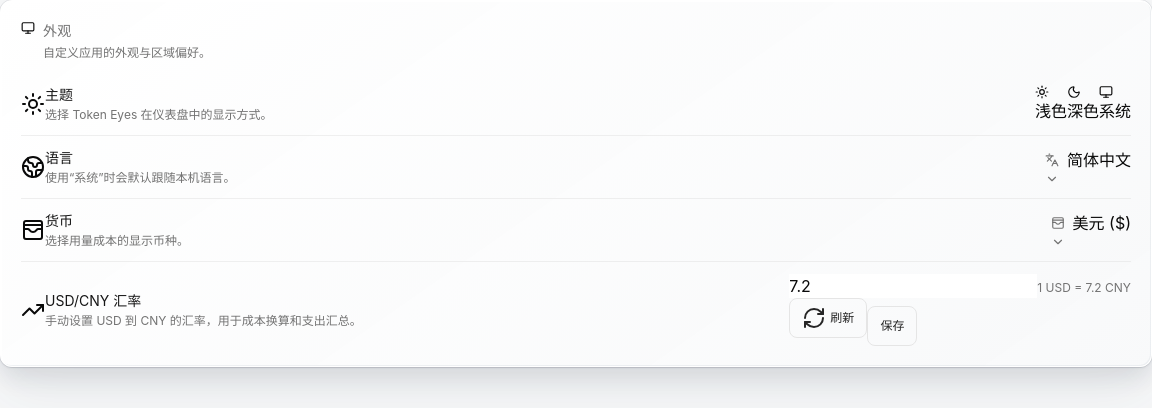
Test: AppearanceSection › refreshes the current USD/CNY rate and persists the fetched value
The image size is (1152, 408).
expect the number field showing "7.2" is shown: met, box [789,274,1037,298]
Click the button "刷新" at (828, 318), box [789,298,867,338]
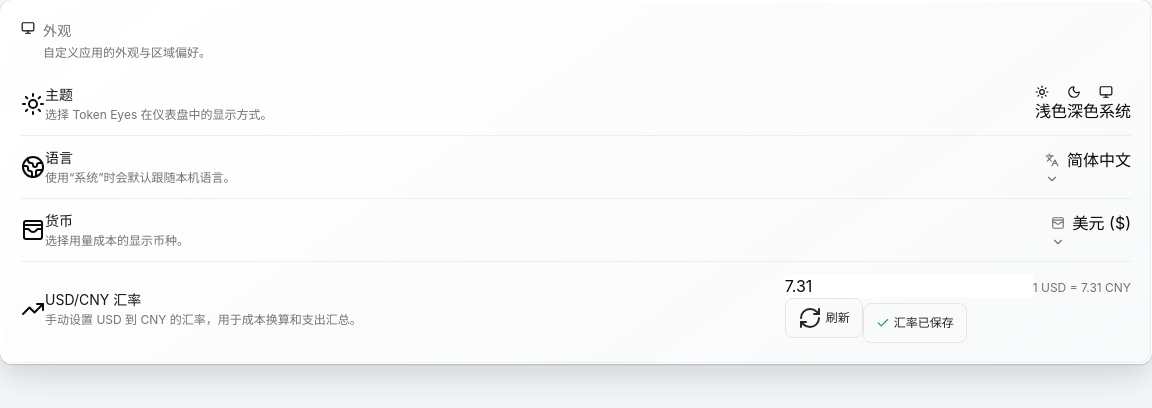
expect the number field showing "7.31" is shown: met, box [785,274,1033,298]
